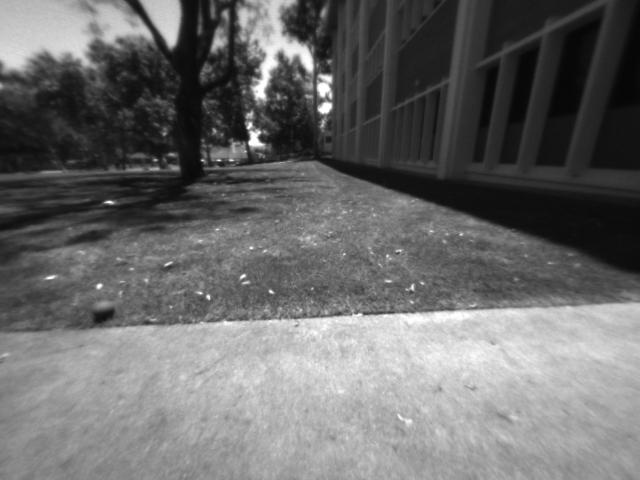dogtoy: (80, 292, 127, 327)
